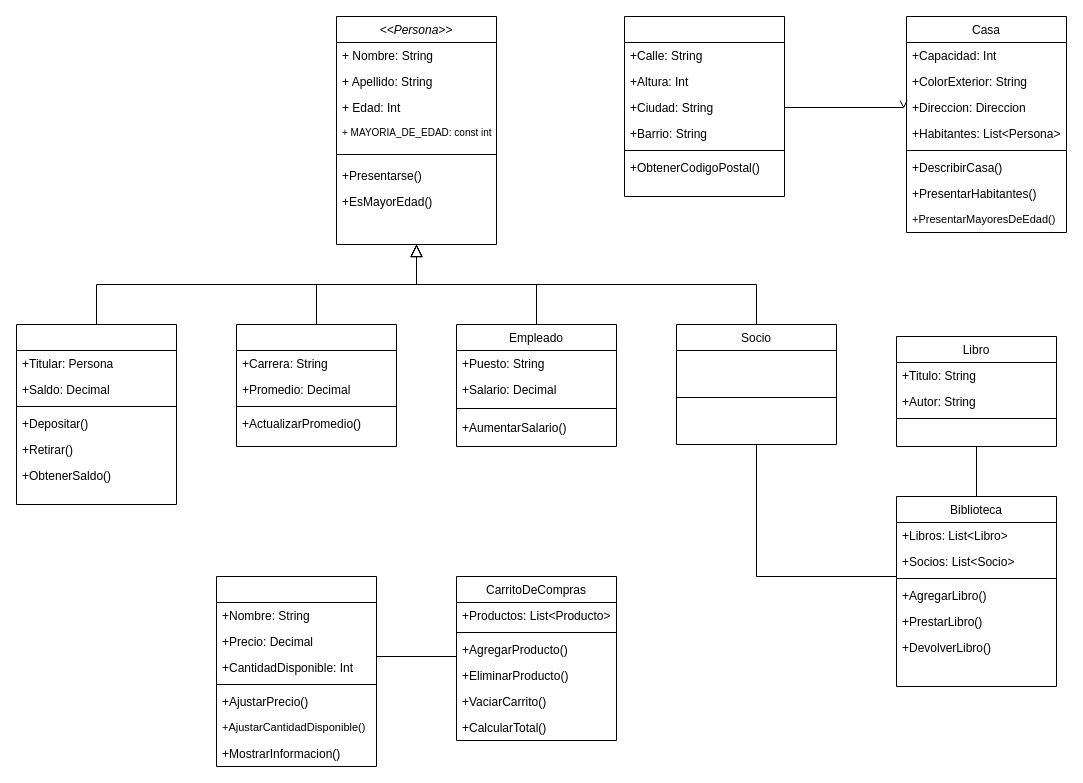
The diagram is 1083 pixels wide and 783 high, and some of its shapes have lost their labels. The box of each missing label's shape, as (x1, y1, x2, y2) in pixels:
CuentaBancaria: (16, 324, 176, 504)
Direccion: (624, 16, 784, 196)
Estudiante: (236, 324, 396, 446)
Producto: (216, 576, 376, 766)
